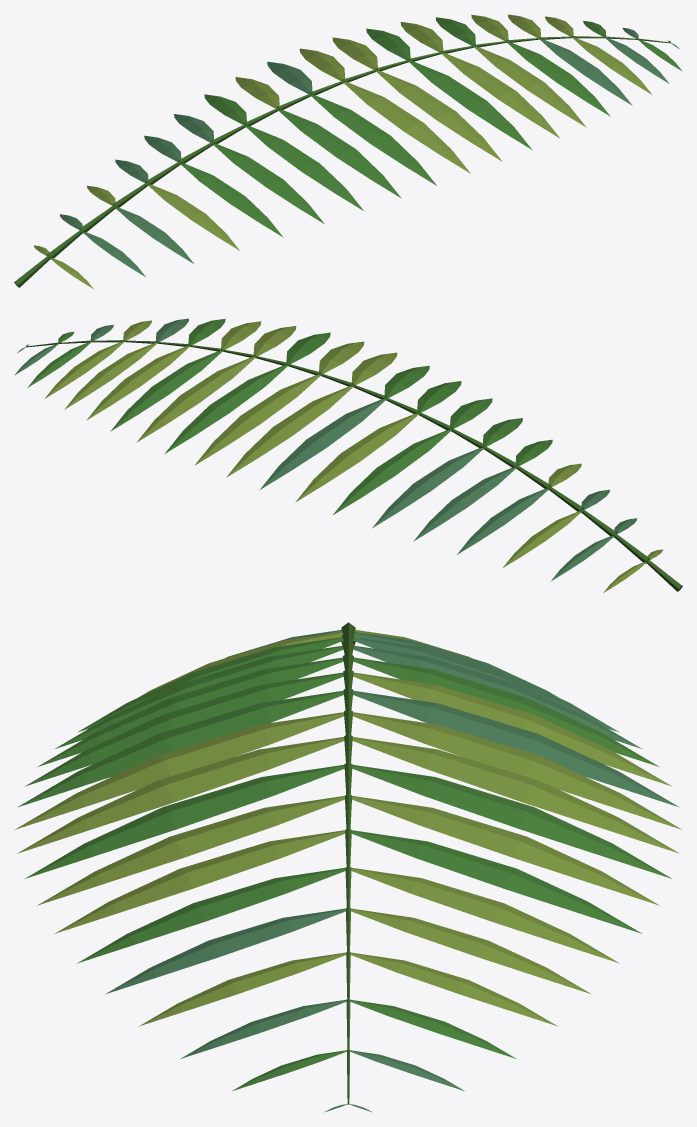
Rendered from fern_frond_module.glb.
3 renders of one model, top to bottom at view 1: azimuth 30°, elevation 25°; view 2: azimuth 150°, elevation 25°; view 3: azimuth 270°, elevation 25°, orthographic. The views are drawn at different scales.
Visible parts, largest first — view 1: fern_frond_module; view 2: fern_frond_module; view 3: fern_frond_module.
Boxes of the visible parts, x1=… form: fern_frond_module: x1=14, y1=14, x2=682, y2=288; fern_frond_module: x1=14, y1=318, x2=682, y2=592; fern_frond_module: x1=15, y1=622, x2=681, y2=1112.
Size of the model in its own units: 1.21 by 0.2329 by 0.5455.
